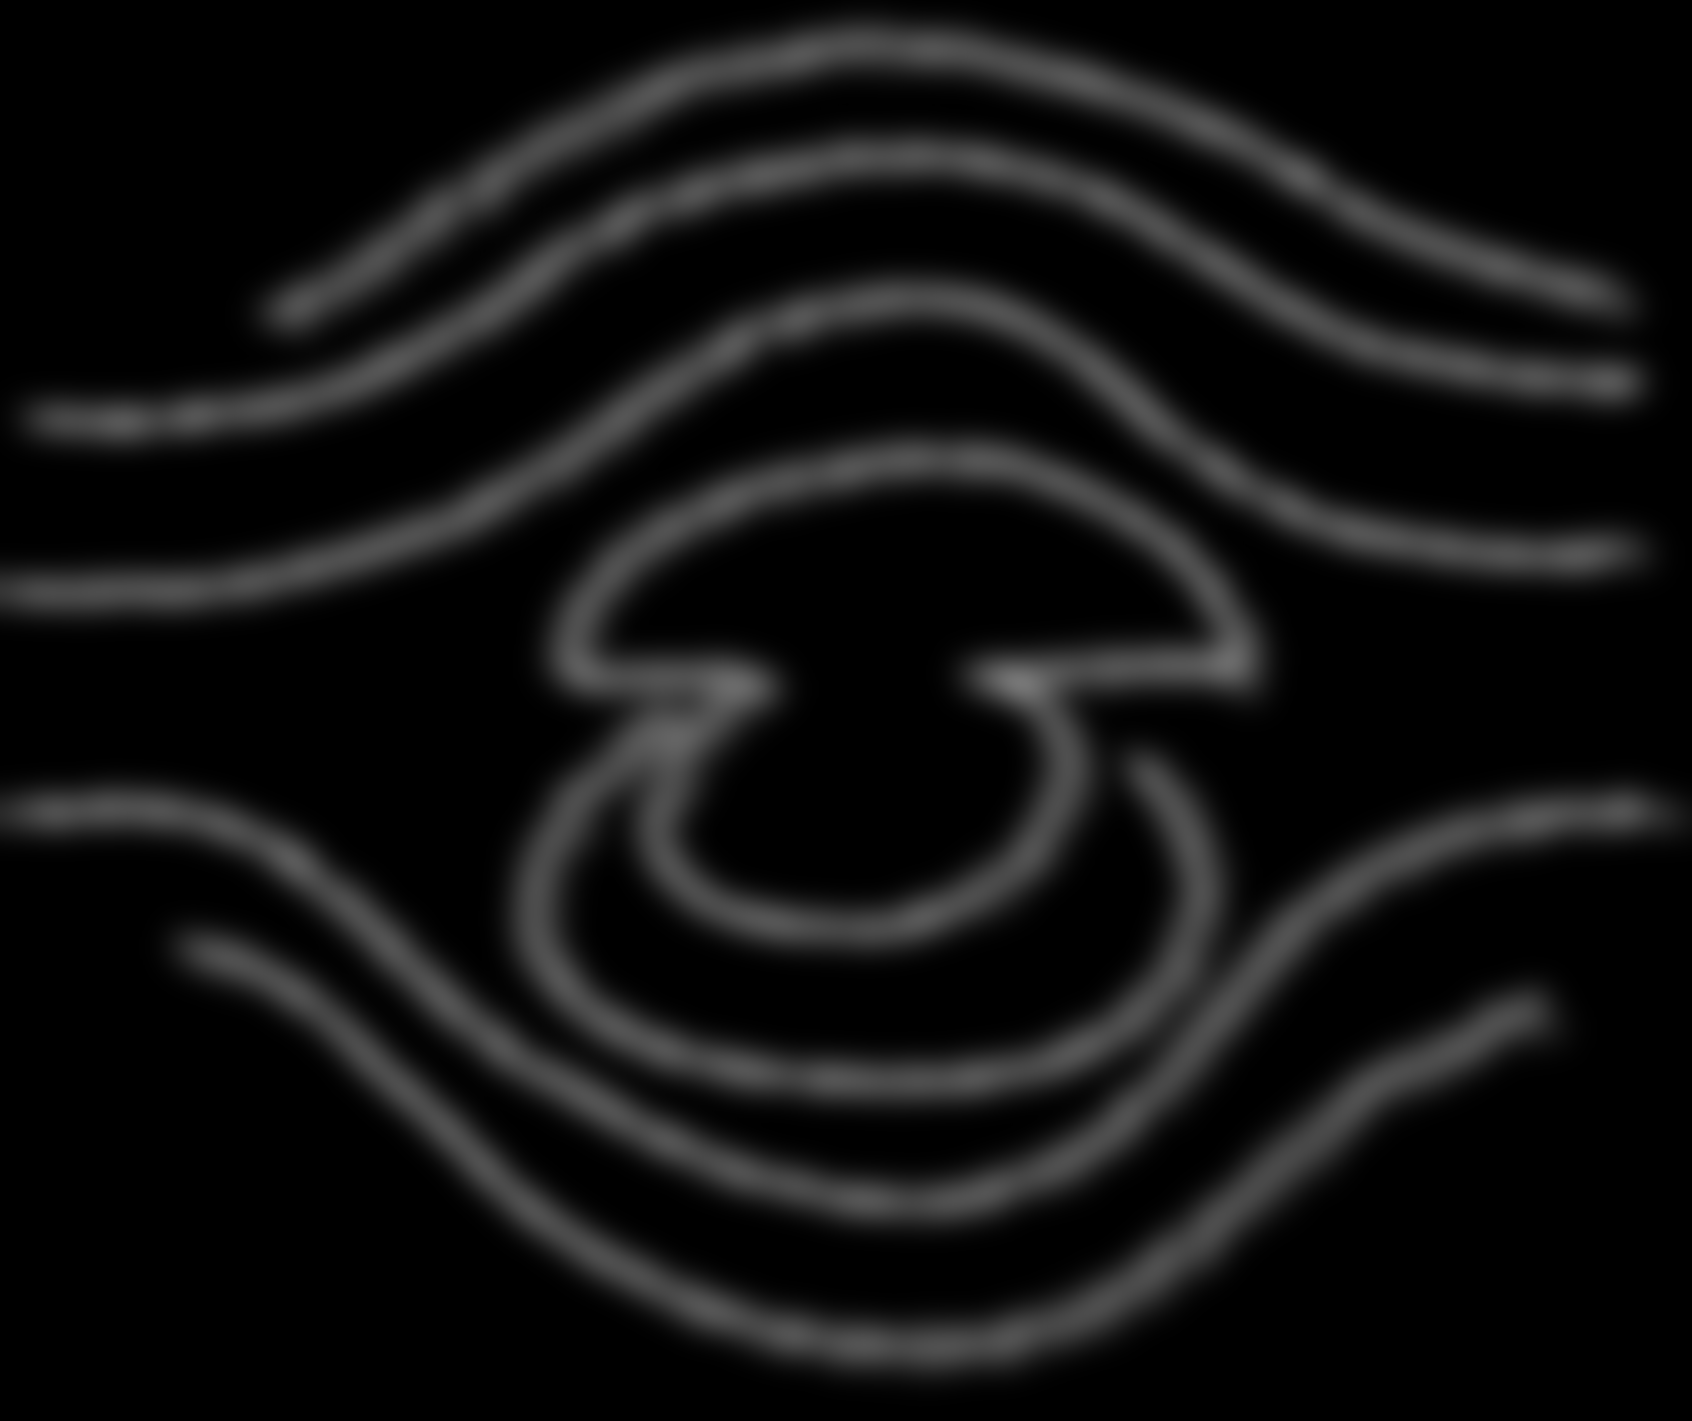Transition flow: (41, 56, 1653, 1365)
